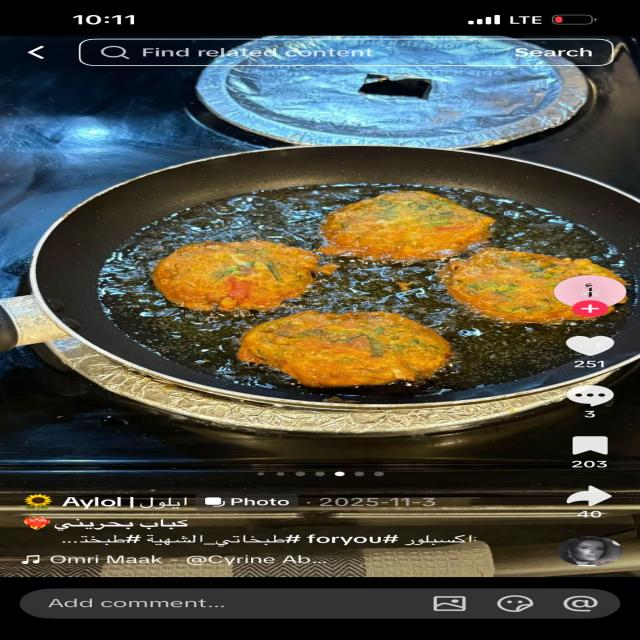Kebab: (139, 180, 635, 392)
